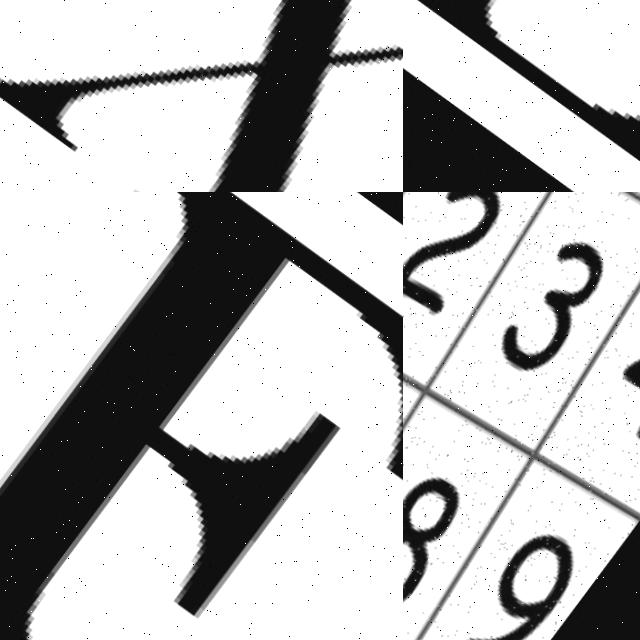2: (403, 192, 524, 328)
3: (479, 224, 630, 395)
4: (583, 285, 640, 461)
8: (403, 460, 485, 628)
9: (445, 519, 600, 640)
F: (0, 192, 403, 640)
L: (403, 0, 640, 192)
X: (0, 0, 403, 192)
